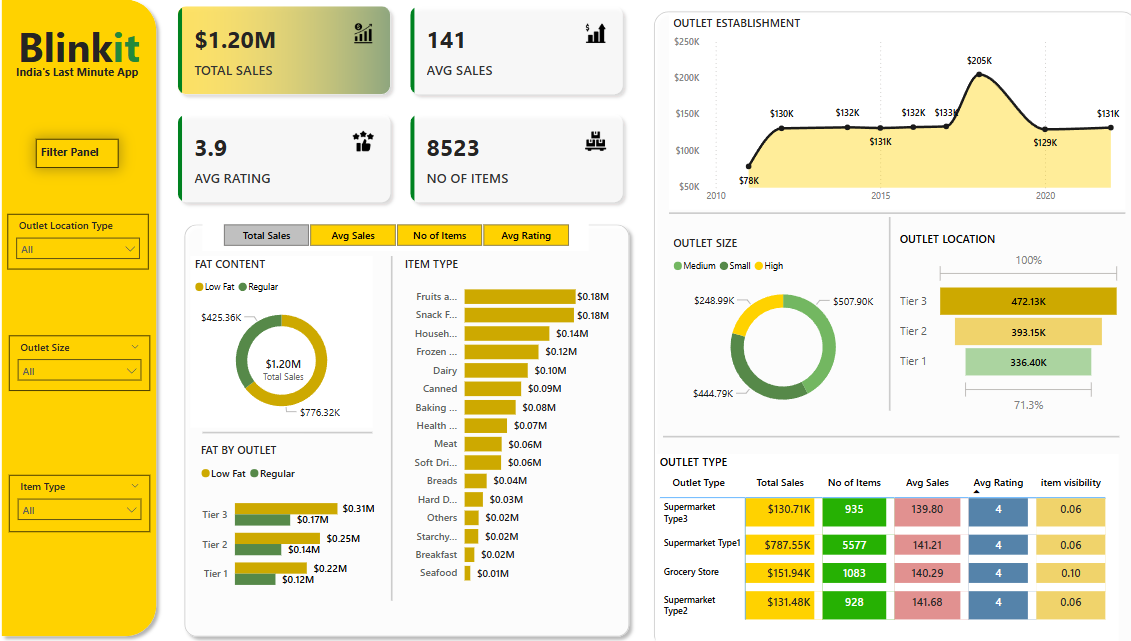

The dashboard page shown, as its layout file describes it:
{"tool":"powerbi","page":{"name":"Page 1","canvas":[1400,800],"ordinal":0},"visuals":[{"type":"shape","box":[10.3,0,204.6,785.4],"z":0},{"type":"textbox","box":[262.5,291.4,204.6,82.7],"z":1000},{"type":"textbox","box":[26.9,26.9,171.6,76.5],"z":2000},{"type":"textbox","box":[24.8,80.6,171.6,43.4],"z":3000},{"type":"cardVisual","fields":{"Data":["BlinkIT Grocery Data.Total Sales","BlinkIT Grocery Data.Avg Sales","BlinkIT Grocery Data.Avg Rating","BlinkIT Grocery Data.No of Items"]},"box":[215,0,570.5,270.8],"z":4000},{"type":"shape","box":[231.5,270.8,553.9,514.7],"z":5000},{"type":"donutChart","title":" FAT CONTENT","fields":{"Y":["BlinkIT Grocery Data.Total Sales"],"Category":["BlinkIT Grocery Data.Item Fat Content"]},"box":[248,318.3,219.1,206.7],"z":6000},{"type":"slicer","fields":{"Values":["mETRICS.mETRICS"]},"box":[262.5,272.8,465.1,39.3],"z":7000},{"type":"cardVisual","fields":{"Data":["BlinkIT Grocery Data.Total Sales"]},"box":[295.6,421.7,126.1,59.9],"z":8000},{"type":"clusteredBarChart","title":"FAT BY OUTLET","fields":{"Y":["BlinkIT Grocery Data.Total Sales"],"Category":["BlinkIT Grocery Data.Outlet Location Type"],"Series":["BlinkIT Grocery Data.Item Fat Content"]},"box":[254.4,541.7,219.5,192.9],"z":9000},{"type":"shape","box":[262.5,520.9,204.6,20.7],"z":10000},{"type":"shape","box":[481.6,318.3,18.6,415.5],"z":11000},{"type":"barChart","title":"ITEM TYPE","fields":{"Y":["BlinkIT Grocery Data.Total Sales"],"Category":["BlinkIT Grocery Data.Item Type"]},"box":[500.2,318.3,256.3,405.1],"z":12000},{"type":"shape","box":[797.8,14.5,599.4,785.4],"z":13000},{"type":"lineChart","title":"OUTLET ESTABLISHMENT","fields":{"Y":["BlinkIT Grocery Data.Total Sales"],"Category":["BlinkIT Grocery Data.Outlet Establishment Year"]},"box":[824.7,26.9,549.8,235.6],"z":14000},{"type":"shape","box":[824.7,260.4,549.8,12.4],"z":15000},{"type":"donutChart","title":"OUTLET SIZE","fields":{"Y":["BlinkIT Grocery Data.Total Sales"],"Category":["BlinkIT Grocery Data.Outlet Size"]},"box":[824.7,293.5,275,225],"z":16000},{"type":"shape","box":[1081,270.8,18.6,233.6],"z":17000},{"type":"funnel","title":"OUTLET LOCATION","fields":{"Y":["Sum(BlinkIT Grocery Data.Sales)"],"Category":["BlinkIT Grocery Data.Outlet Location Type"]},"box":[1097.5,287.3,277,225.3],"z":18000},{"type":"shape","box":[816.4,529.1,549.8,12.4],"z":19000},{"type":"pivotTable","title":"OUTLET TYPE","fields":{"Rows":["BlinkIT Grocery Data.Outlet Type"],"Values":["BlinkIT Grocery Data.Total Sales","BlinkIT Grocery Data.No of Items","BlinkIT Grocery Data.Avg Sales","BlinkIT Grocery Data.Avg Rating","Avg(BlinkIT Grocery Data.Item Visibility)"]},"box":[808.4,556,558.1,229.8],"z":20000},{"type":"slicer","fields":{"Values":["BlinkIT Grocery Data.Outlet Location Type"]},"box":[27.1,267.5,169.9,66.9],"z":21000},{"type":"slicer","fields":{"Values":["BlinkIT Grocery Data.Outlet Size"]},"box":[28.9,413.9,169.9,66.9],"z":22000},{"type":"slicer","fields":{"Values":["BlinkIT Grocery Data.Item Type"]},"box":[28.9,581.9,169.9,68.7],"z":23000},{"type":"textbox","box":[61.4,177.1,99.4,34.3],"z":24000}]}

Visuals, with their boxes in screenshot pixels (x1, y1, x2, y2), scaled from the page's 1400x800 canvas onto the 1131x641 screenshot:
shape: x1=8, y1=0, x2=174, y2=629
textbox: x1=212, y1=233, x2=377, y2=300
textbox: x1=22, y1=22, x2=160, y2=83
textbox: x1=20, y1=65, x2=159, y2=99
cardVisual - BlinkIT Grocery Data.Total Sales x BlinkIT Grocery Data.Avg Sales: x1=174, y1=0, x2=635, y2=217
shape: x1=187, y1=217, x2=634, y2=629
" FAT CONTENT" donutChart: x1=200, y1=255, x2=377, y2=421
slicer - mETRICS.mETRICS: x1=212, y1=219, x2=588, y2=250
cardVisual - BlinkIT Grocery Data.Total Sales: x1=239, y1=338, x2=341, y2=386
"FAT BY OUTLET" clusteredBarChart: x1=206, y1=434, x2=383, y2=589
shape: x1=212, y1=417, x2=377, y2=434
shape: x1=389, y1=255, x2=404, y2=588
"ITEM TYPE" barChart: x1=404, y1=255, x2=611, y2=580
shape: x1=645, y1=12, x2=1129, y2=640
"OUTLET ESTABLISHMENT" lineChart: x1=666, y1=22, x2=1110, y2=210
shape: x1=666, y1=209, x2=1110, y2=219
"OUTLET SIZE" donutChart: x1=666, y1=235, x2=888, y2=415
shape: x1=873, y1=217, x2=888, y2=404
"OUTLET LOCATION" funnel: x1=887, y1=230, x2=1110, y2=411
shape: x1=660, y1=424, x2=1104, y2=434
"OUTLET TYPE" pivotTable: x1=653, y1=445, x2=1104, y2=630
slicer - BlinkIT Grocery Data.Outlet Location Type: x1=22, y1=214, x2=159, y2=268
slicer - BlinkIT Grocery Data.Outlet Size: x1=23, y1=332, x2=161, y2=385
slicer - BlinkIT Grocery Data.Item Type: x1=23, y1=466, x2=161, y2=521
textbox: x1=50, y1=142, x2=130, y2=169
